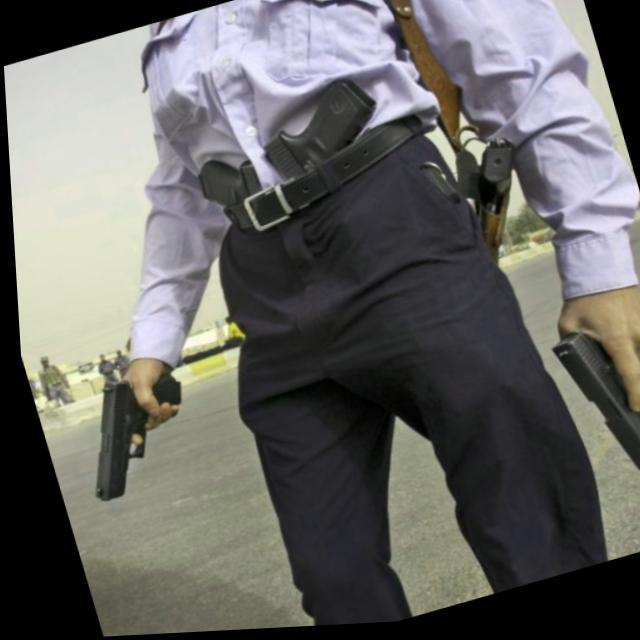weapon: (533, 298, 640, 504), (58, 362, 201, 505)
